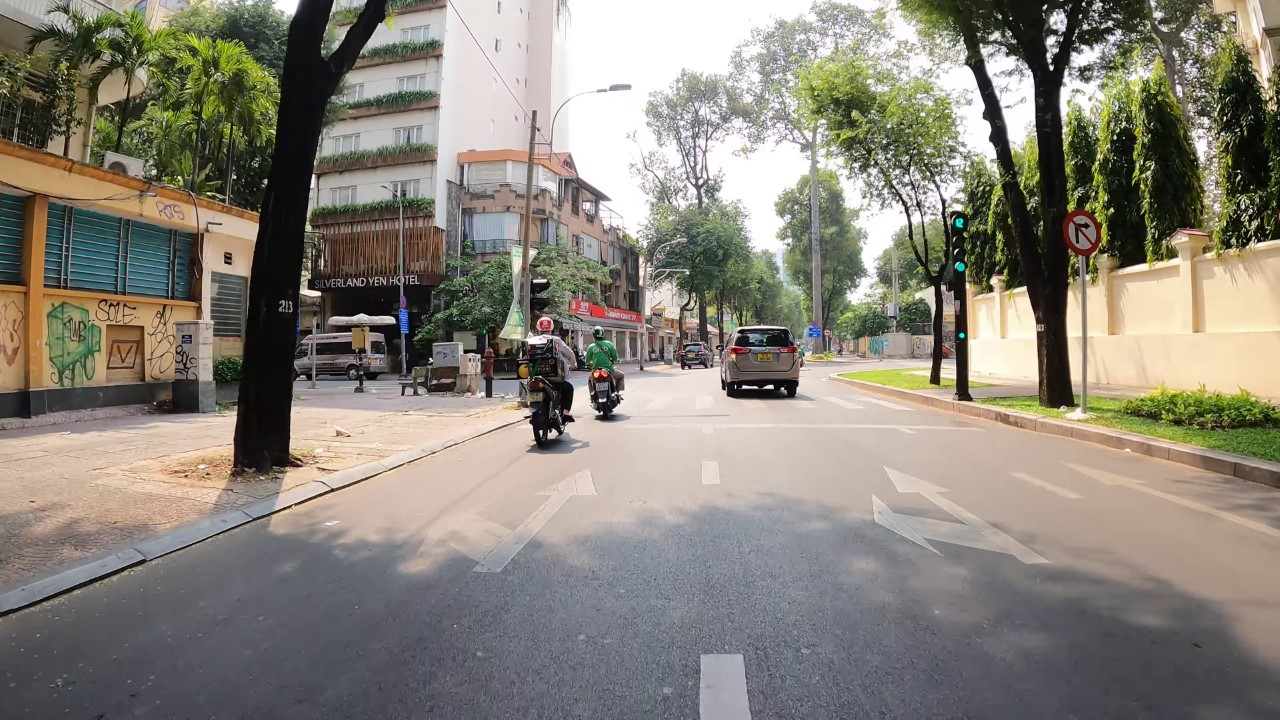cam_re_phai: (1063, 210, 1102, 255)
